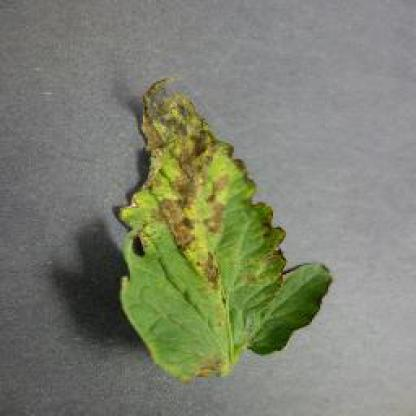bad leaf: (131, 80, 288, 311)
